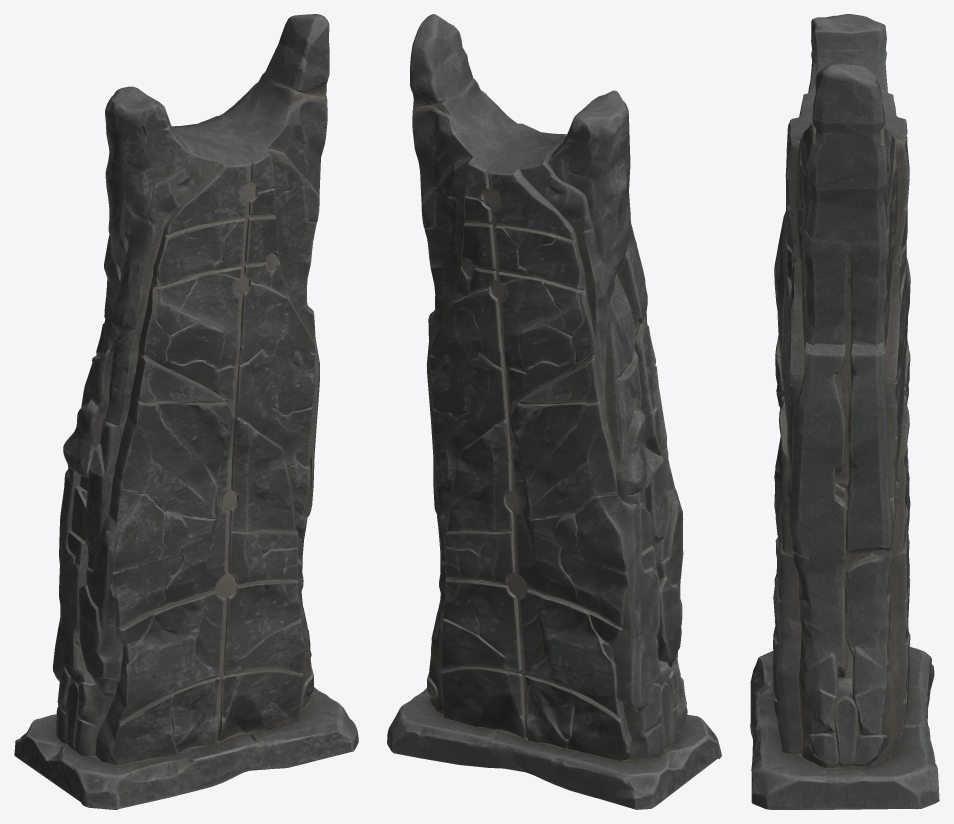
Rendered from seatosmonolith.glb.
3 renders of one model, left to right at view 1: azimuth 30°, elevation 25°; view 2: azimuth 150°, elevation 25°; view 3: azimuth 270°, elevation 25°, orthographic. The views are drawn at different scales.
Visible parts, largest first — view 1: seatosmonolith-centred; view 2: seatosmonolith-centred; view 3: seatosmonolith-centred.
Part boxes in pixels (x1,y1,x2,y2): seatosmonolith-centred: (14,14,358,809); seatosmonolith-centred: (387,14,721,809); seatosmonolith-centred: (750,14,939,809).
Bounding box in the file's own units: 12.08 × 30 × 6.94.
1 material, 1 textured.
